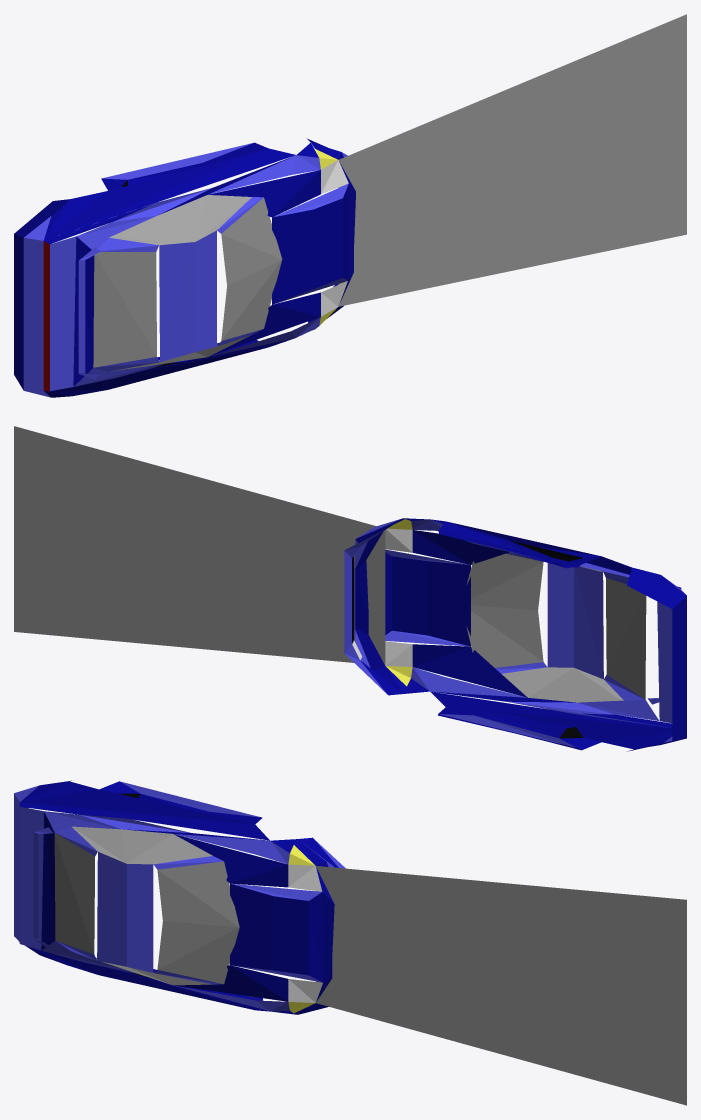
The model's file is cars_3.obj.
The picture shows the model from 3 angles, top to bottom: view 1: azimuth 30°, elevation 25°; view 2: azimuth 150°, elevation 25°; view 3: azimuth 330°, elevation 25°; orthographic projection. The views are drawn at different scales.
Bounding box in the file's own units: 4.73 × 1.44 × 0.64.
